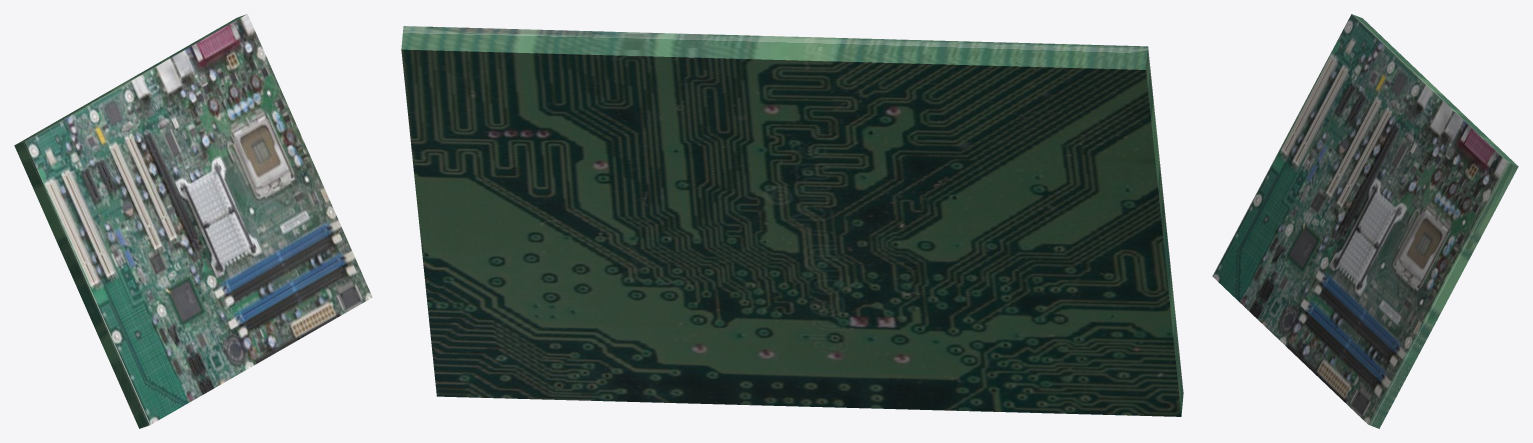
File: motherboard.glb
3 views of the same model, side by side, from view 1: azimuth 30°, elevation 25°; view 2: azimuth 150°, elevation 25°; view 3: azimuth 270°, elevation 25° (orthographic). The views are drawn at different scales.
Parts seen in each view (by area): view 1: Object_5; view 2: Object_5; view 3: Object_5.
Part boxes in pixels (<box>): Object_5: <box>14,14,372,428</box>; Object_5: <box>401,26,1183,416</box>; Object_5: <box>1212,14,1518,428</box>.
Bounding box in the file's own units: 0.2988 × 0.202 × 0.2259.
1 material, 1 textured.
